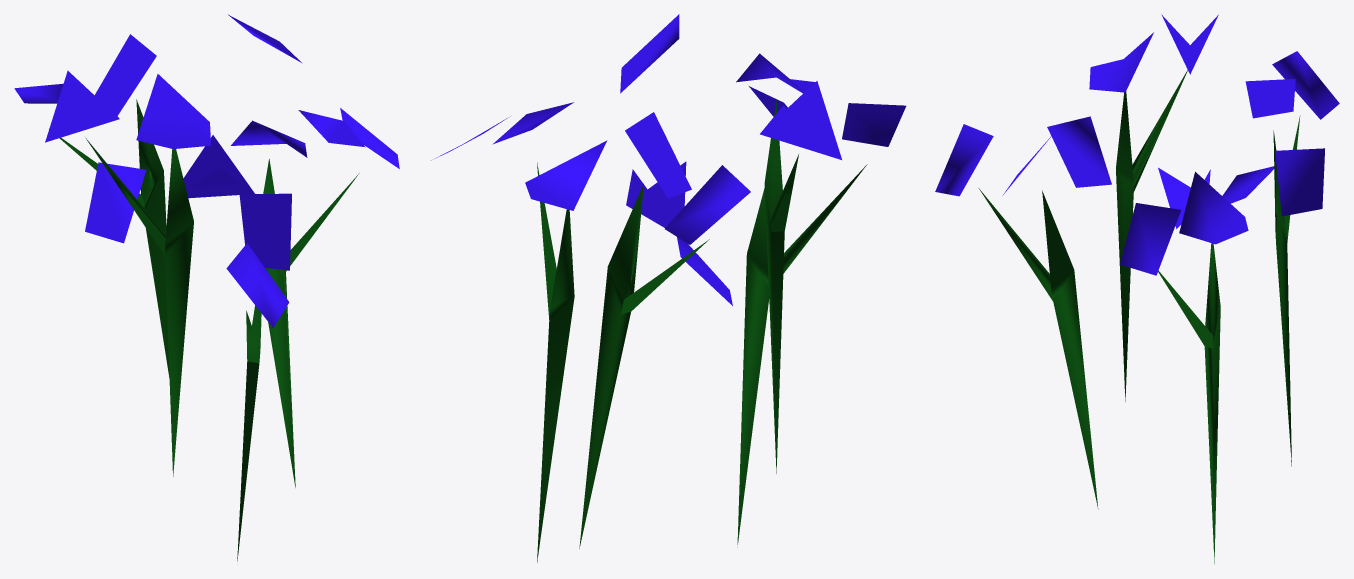
Rendered from PurpleAster_LOD3.obj.
3 renders of one model, left to right at view 1: azimuth 30°, elevation 25°; view 2: azimuth 150°, elevation 25°; view 3: azimuth 270°, elevation 25°, orthographic. The views are drawn at different scales.
Parts seen in each view (by area): view 1: PurpleAster_LOD3; view 2: PurpleAster_LOD3; view 3: PurpleAster_LOD3.
Boxes of the visible parts, left/top/right/bottom form: PurpleAster_LOD3: left=14, top=14, right=399, bottom=561; PurpleAster_LOD3: left=431, top=14, right=906, bottom=562; PurpleAster_LOD3: left=935, top=14, right=1339, bottom=563.
Size of the model in its own units: 24.17 by 33.24 by 26.77.
